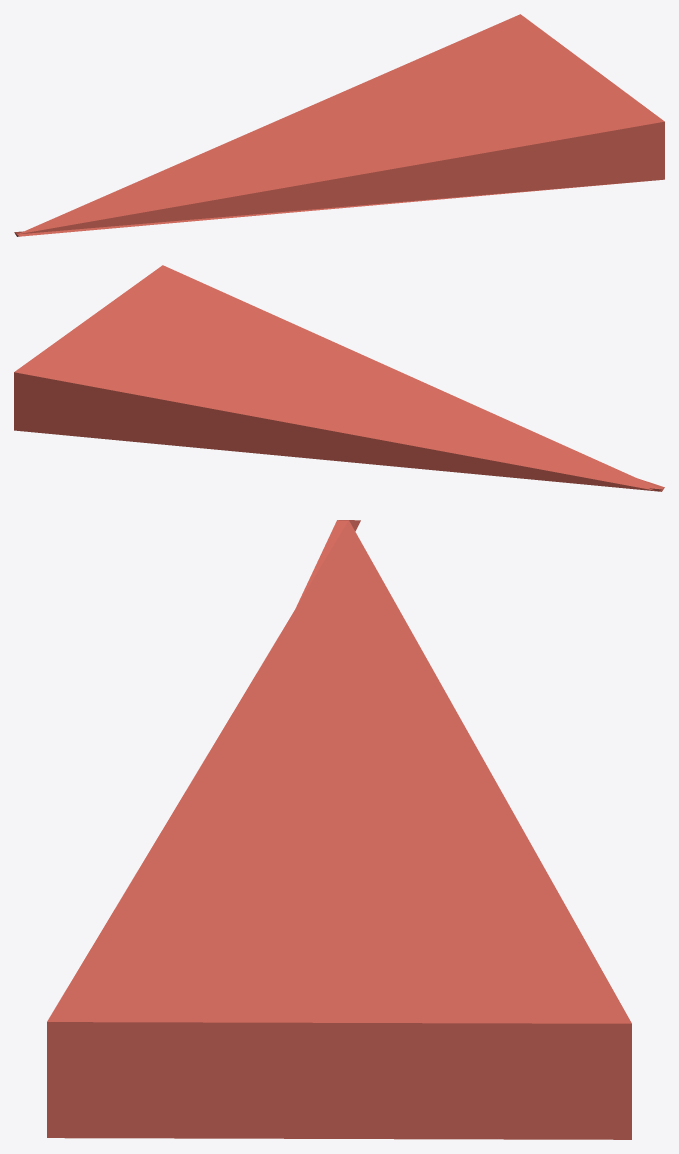
File: arrow.gltf
3 views of the same model, one above another, from view 1: azimuth 30°, elevation 25°; view 2: azimuth 150°, elevation 25°; view 3: azimuth 270°, elevation 25° (orthographic). The views are drawn at different scales.
Parts seen in each view (by area): view 1: Cube; view 2: Cube; view 3: Cube.
Part boxes in pixels (box(x1,y1,x2,y2)): Cube: box(14, 14, 664, 236); Cube: box(14, 265, 664, 491); Cube: box(47, 520, 631, 1139).
Bounding box in the file's own units: 4.16 × 0.4019 × 1.84.
